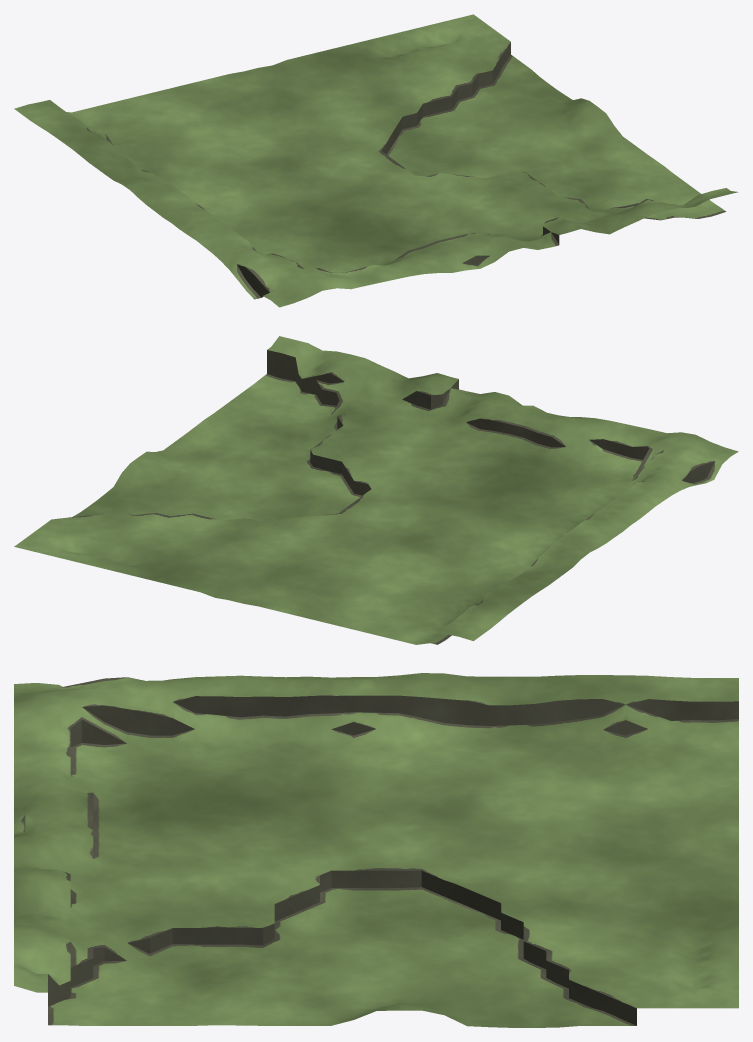
Rendered from Chunk(-1,0).glb.
3 renders of one model, top to bottom at view 1: azimuth 30°, elevation 25°; view 2: azimuth 150°, elevation 25°; view 3: azimuth 270°, elevation 25°, orthographic. The views are drawn at different scales.
Size of the model in its own units: 64 by 4.95 by 64.
Materials: 1 (1 with a texture image).
